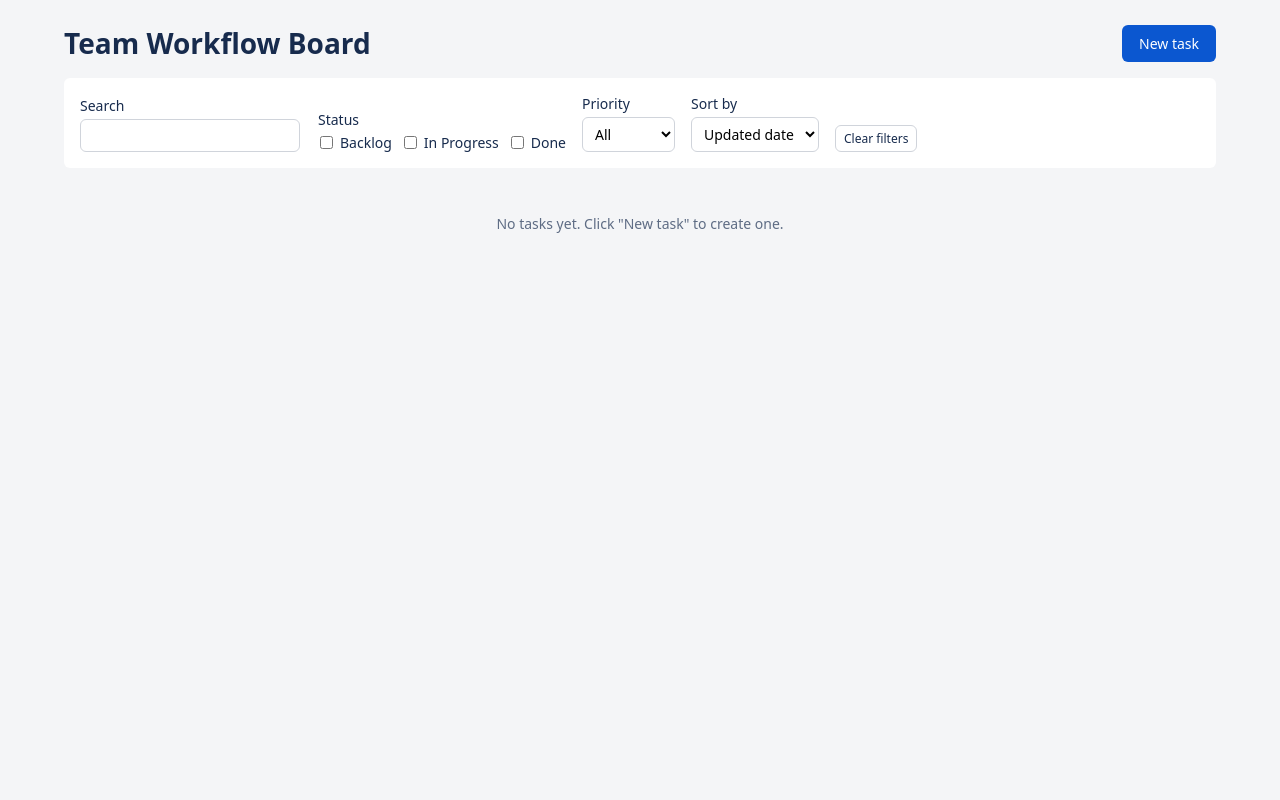
Test case: creates a task and shows it on the board
Expected: the text "No tasks yet. Click \"New task\" to create one." is shown, [496,214,784,233]
Click the button "New task" at (1169, 43), box [1122,24,1216,62]
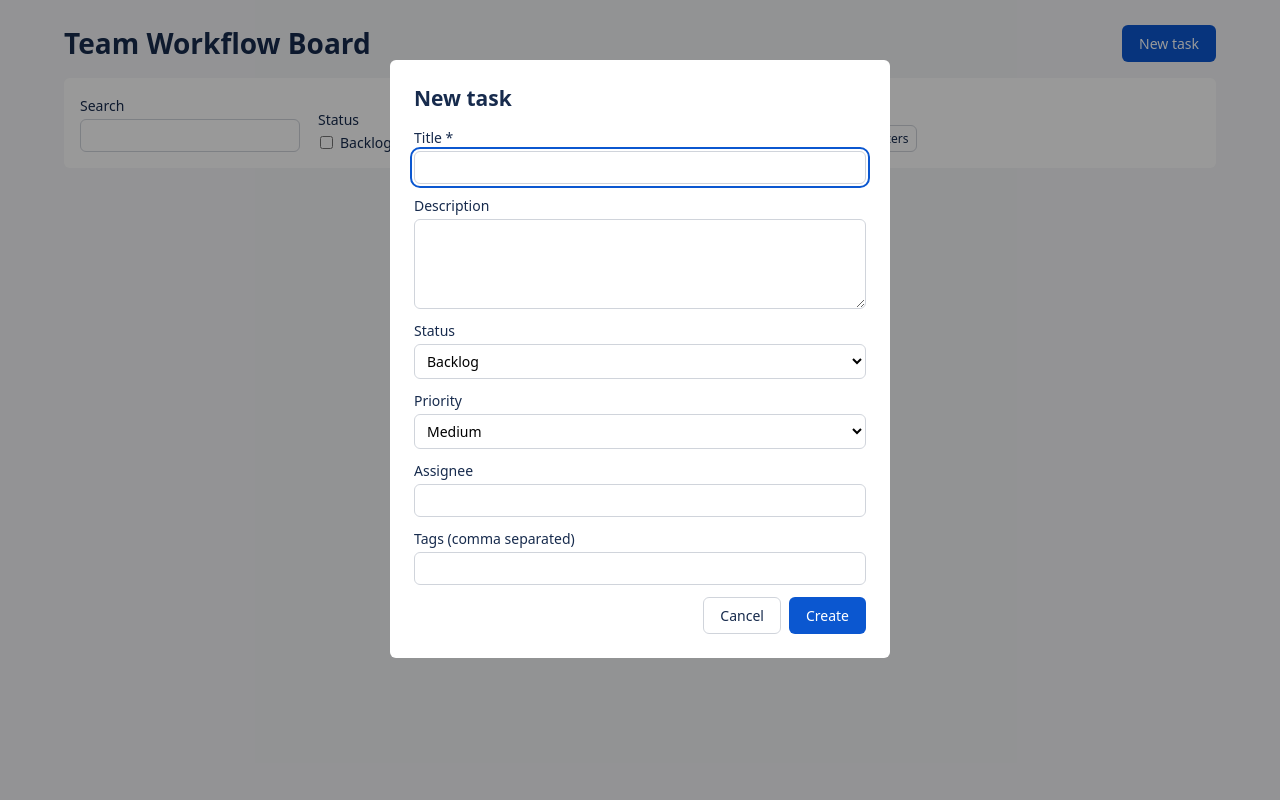
Click the button "Create" at (827, 616), box [789,597,866,634]
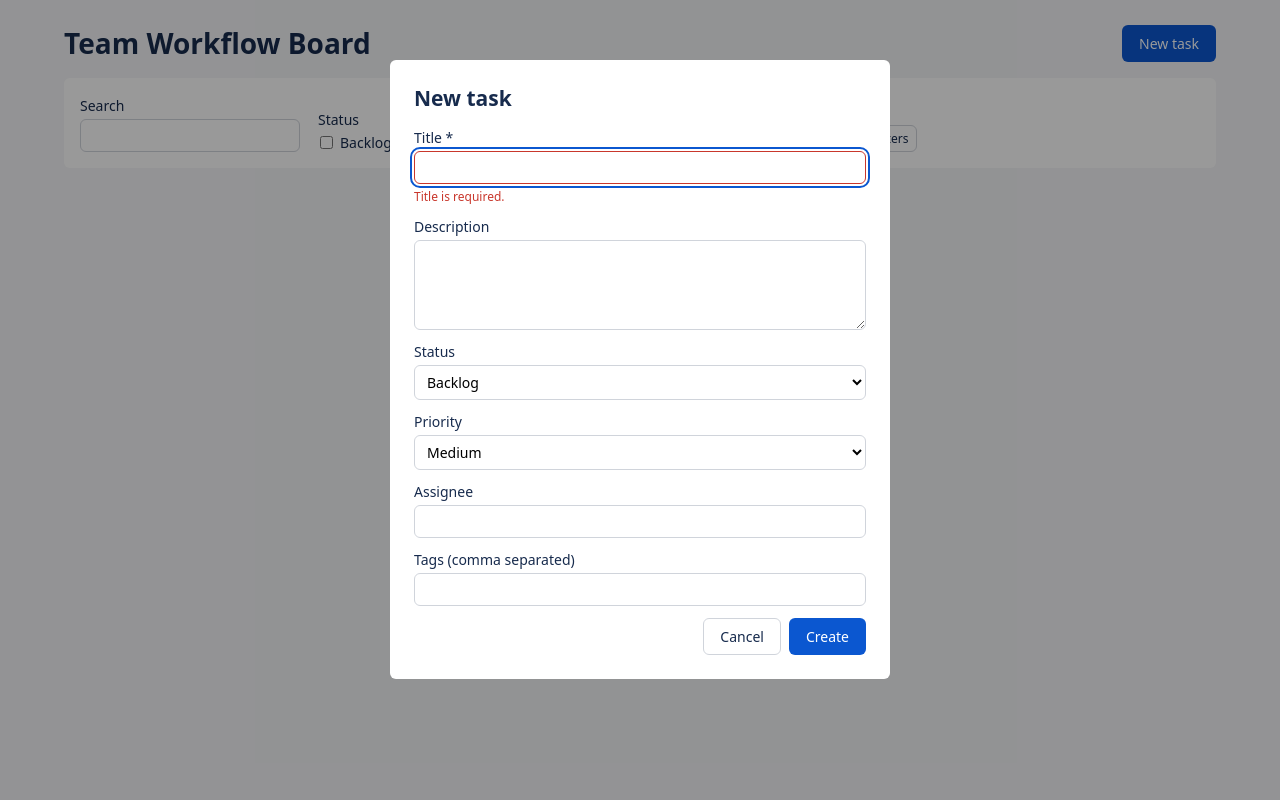
Result: the text "Title is required." is shown at [414,188,504,205]
Type "Write tests" into the field labelled "Title *" at (640, 168), box [414,151,866,184]
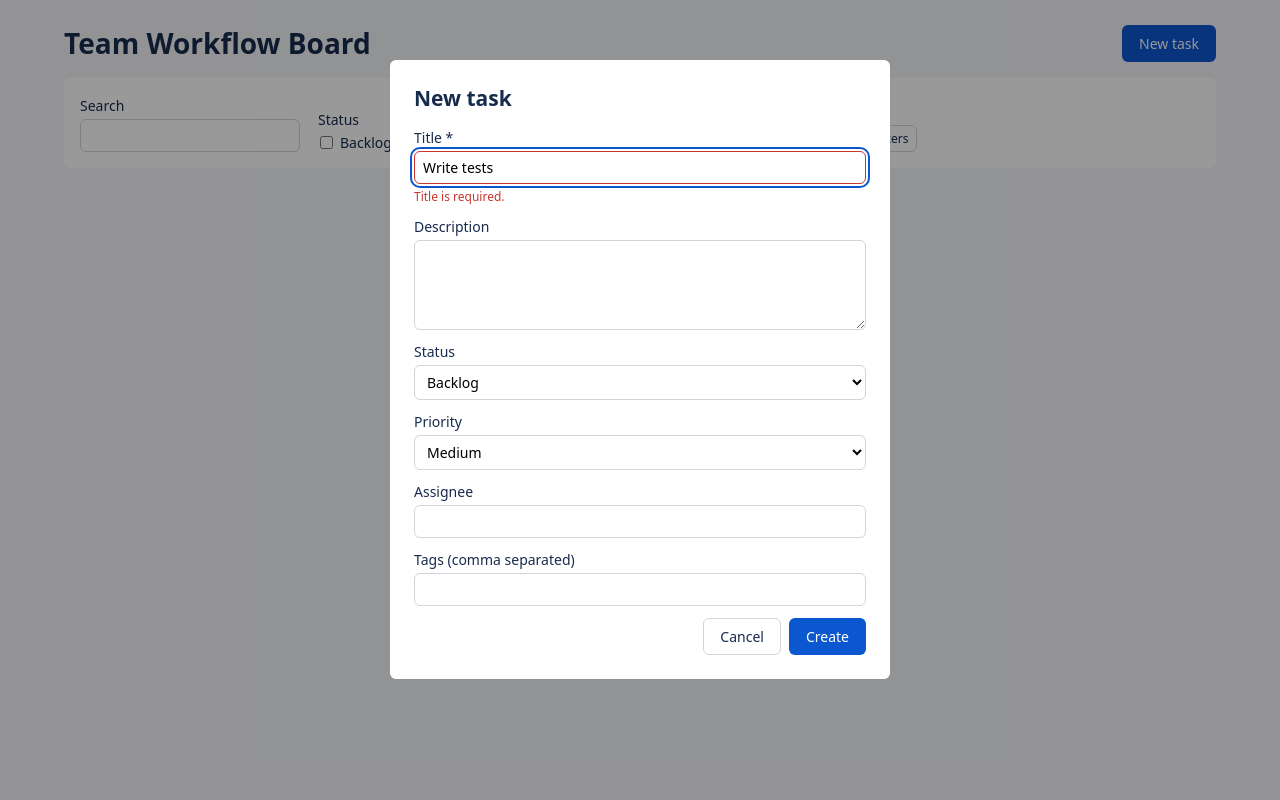
Type "qa, frontend" into the field labelled "Tags (comma separated)" at (640, 590), box [414,573,866,606]
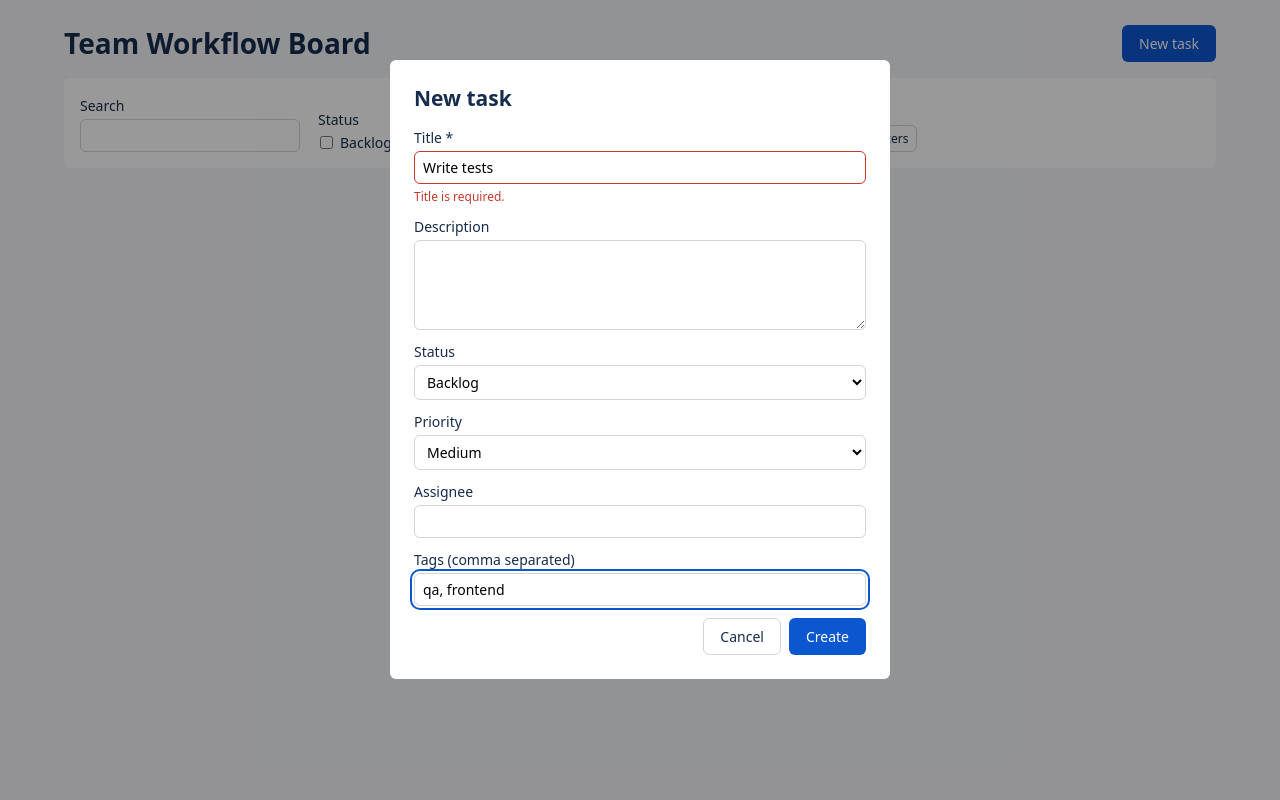
Click the button "Create" at (827, 636), box [789,618,866,655]
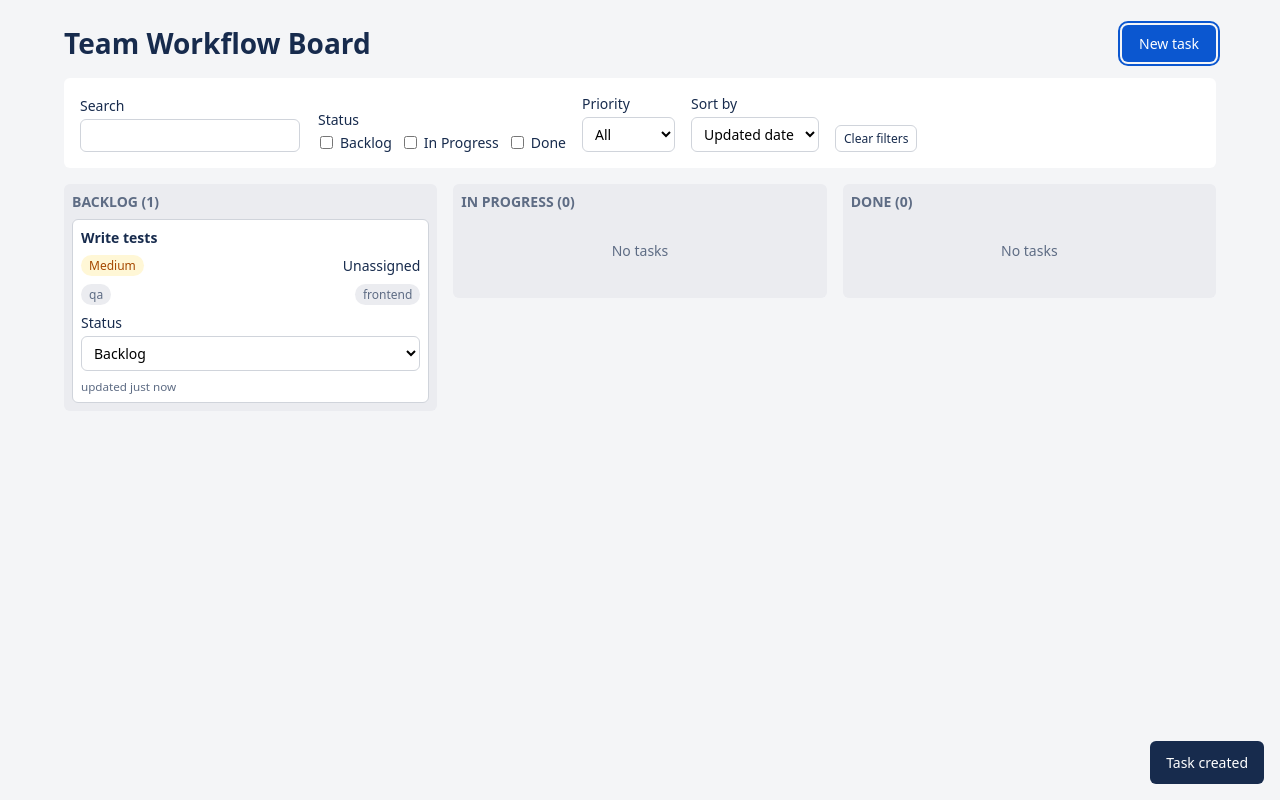
Result: the button "Write tests" is shown at [81,228,420,247]
Result: the text "qa" is shown at [81,284,111,305]
Result: the text "Task created" is shown at [1150,741,1264,784]
